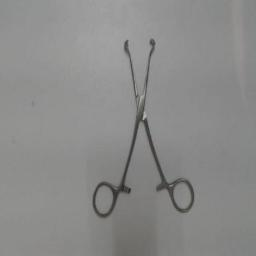Babcock Tissue Forceps: (90, 34, 196, 220)
